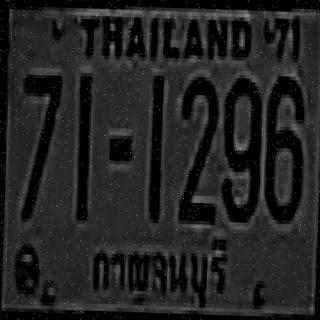N01: (74, 73, 90, 217), (147, 75, 162, 219)
N02: (177, 74, 218, 219)
N06: (262, 74, 303, 219)
N07: (18, 71, 61, 219)
N09: (219, 74, 261, 219)
P17: (82, 224, 238, 316)
